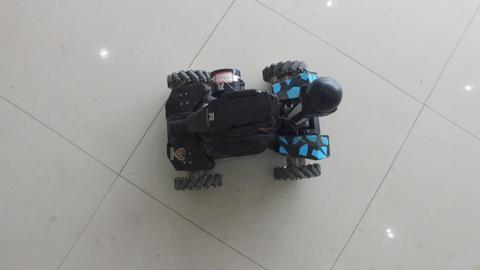chariot: (150, 43, 345, 195)
